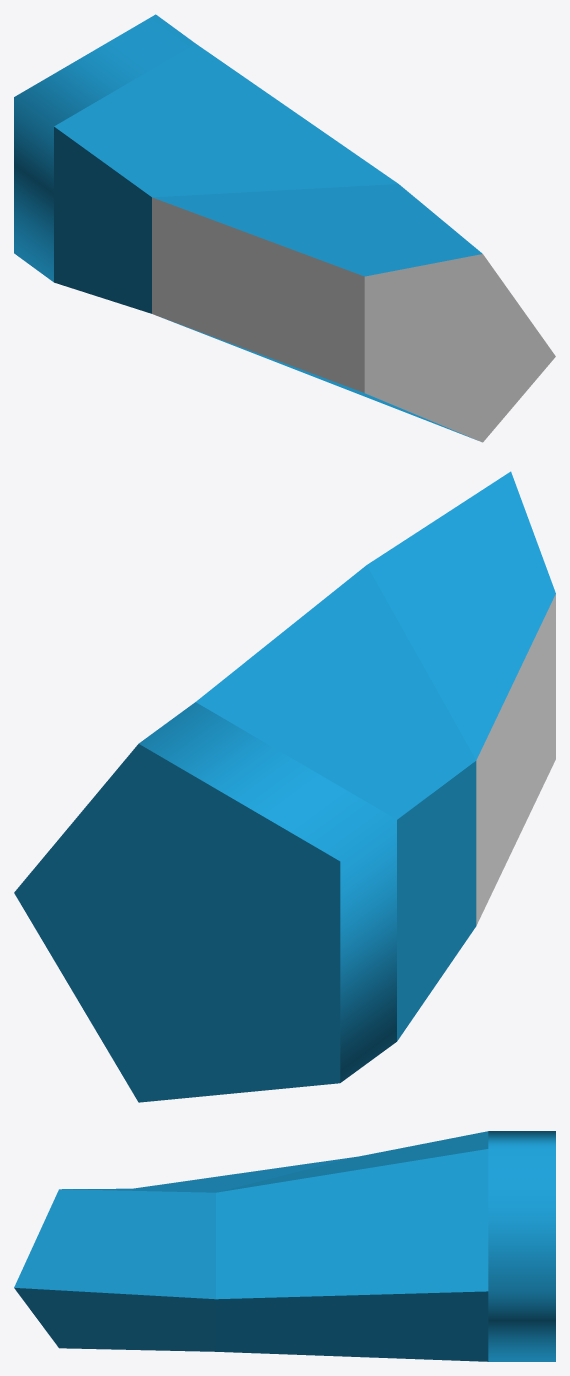
The picture shows the model from 3 angles, top to bottom: view 1: azimuth 30°, elevation 25°; view 2: azimuth 150°, elevation 25°; view 3: azimuth 270°, elevation 25°; orthographic projection. The views are drawn at different scales.
Visible parts, largest first — view 1: forest17_2; view 2: forest17_2; view 3: forest17_2.
Part boxes in pixels (x1,y1,x2,y2): forest17_2: (14, 14, 555, 442); forest17_2: (14, 471, 555, 1102); forest17_2: (14, 1131, 555, 1361).
Bounding box in the file's own units: 79.03 × 177 × 76.75.
